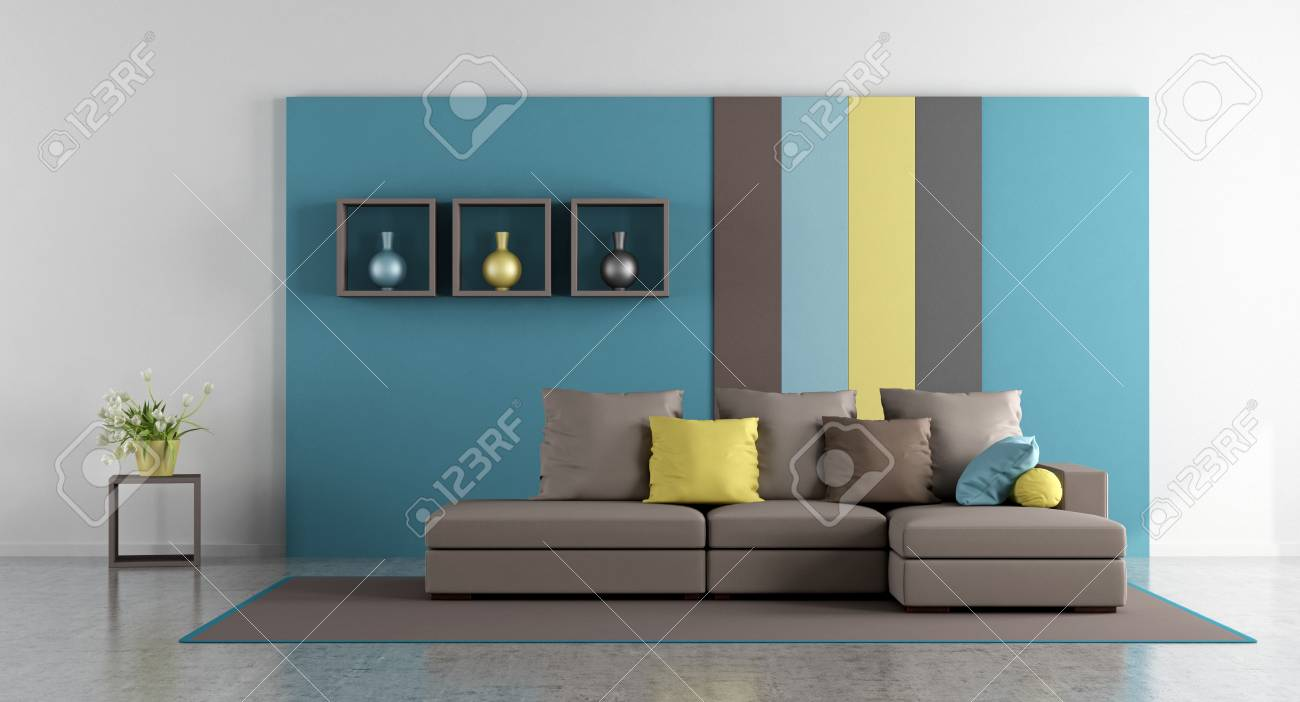biru: (953, 438, 1030, 503)
kuning: (646, 416, 758, 505), (1018, 473, 1058, 509)
